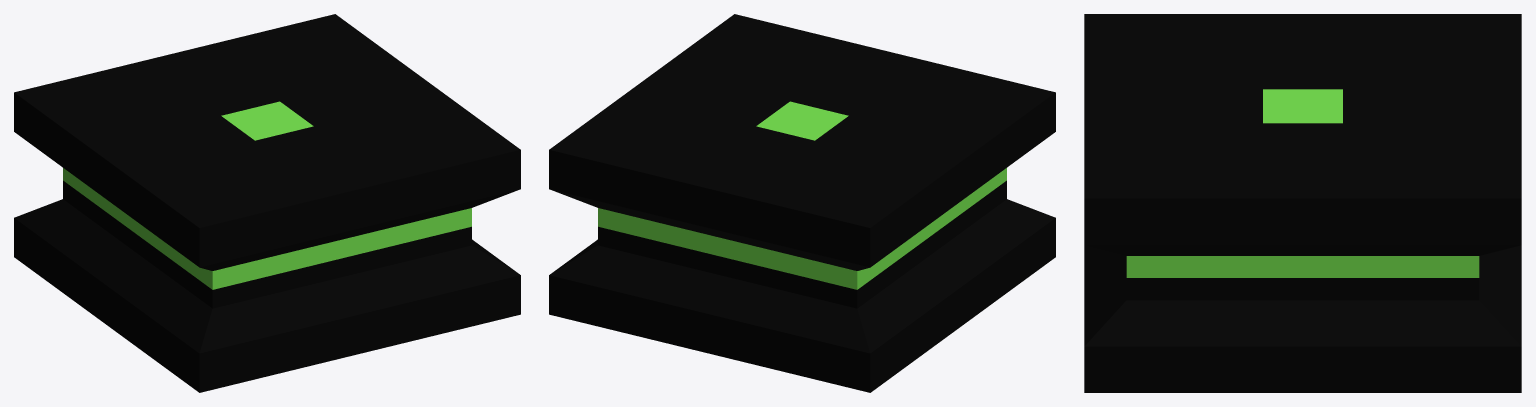
The model's file is Frog FBX.fbx.
3 views of the same model, side by side, from view 1: azimuth 30°, elevation 25°; view 2: azimuth 150°, elevation 25°; view 3: azimuth 270°, elevation 25° (orthographic). The views are drawn at different scales.
Parts seen in each view (by area): view 1: Cube.022; view 2: Cube.022; view 3: Cube.022.
Part boxes in pixels (x1,y1,x2,y2): Cube.022: [14, 14, 520, 392]; Cube.022: [549, 14, 1055, 392]; Cube.022: [1084, 14, 1521, 392].
Size of the model in its own units: 113 by 55.44 by 113.
